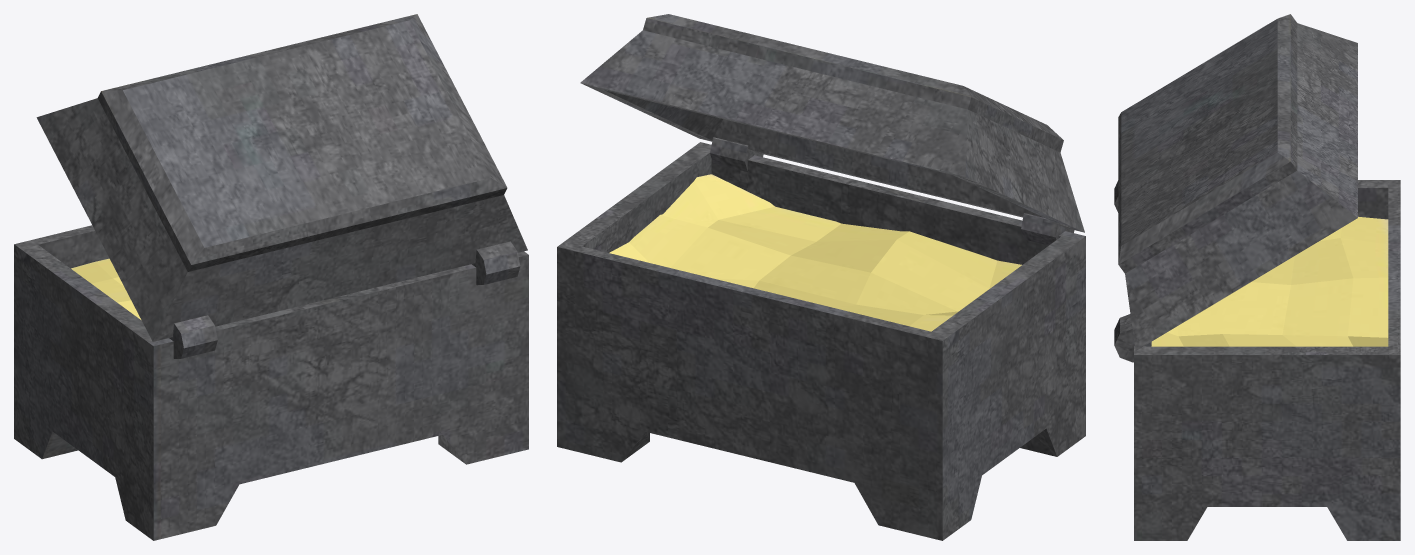
File: chest06-2021.glb
The picture shows the model from 3 angles, left to right: view 1: azimuth 30°, elevation 25°; view 2: azimuth 150°, elevation 25°; view 3: azimuth 270°, elevation 25°; orthographic projection. The views are drawn at different scales.
Parts seen in each view (by area): view 1: Chest; view 2: Chest; view 3: Chest.
Part boxes in pixels (x1=…): Chest: x1=14, y1=14, x2=528, y2=540; Chest: x1=557, y1=14, x2=1085, y2=540; Chest: x1=1114, y1=14, x2=1400, y2=540.
Size of the model in its own units: 0.9892 by 0.9698 by 0.6838.
1 material, 1 textured.
